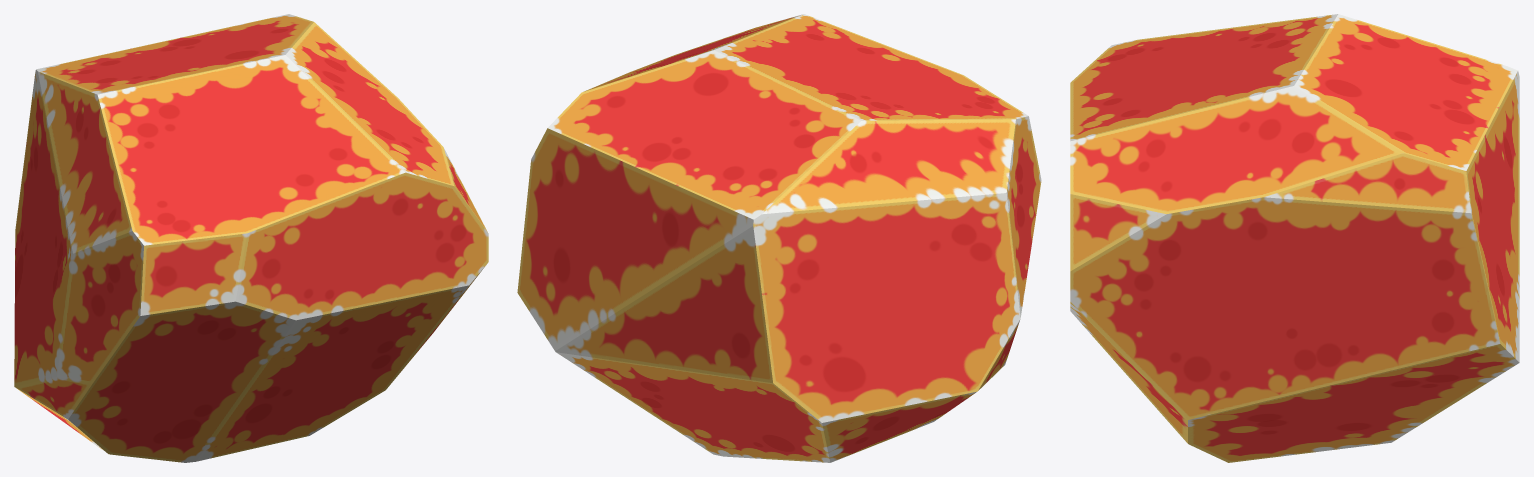
File: asteroid-red.gltf
The picture shows the model from 3 angles, left to right: view 1: azimuth 30°, elevation 25°; view 2: azimuth 150°, elevation 25°; view 3: azimuth 270°, elevation 25°; orthographic projection. The views are drawn at different scales.
Parts seen in each view (by area): view 1: Cube; view 2: Cube; view 3: Cube.
Boxes of the visible parts, <box> form: Cube: <box>14,14,488,462</box>; Cube: <box>517,14,1041,462</box>; Cube: <box>1070,14,1519,462</box>.
Size of the model in its own units: 2 by 1.87 by 2.
1 material, 1 textured.
